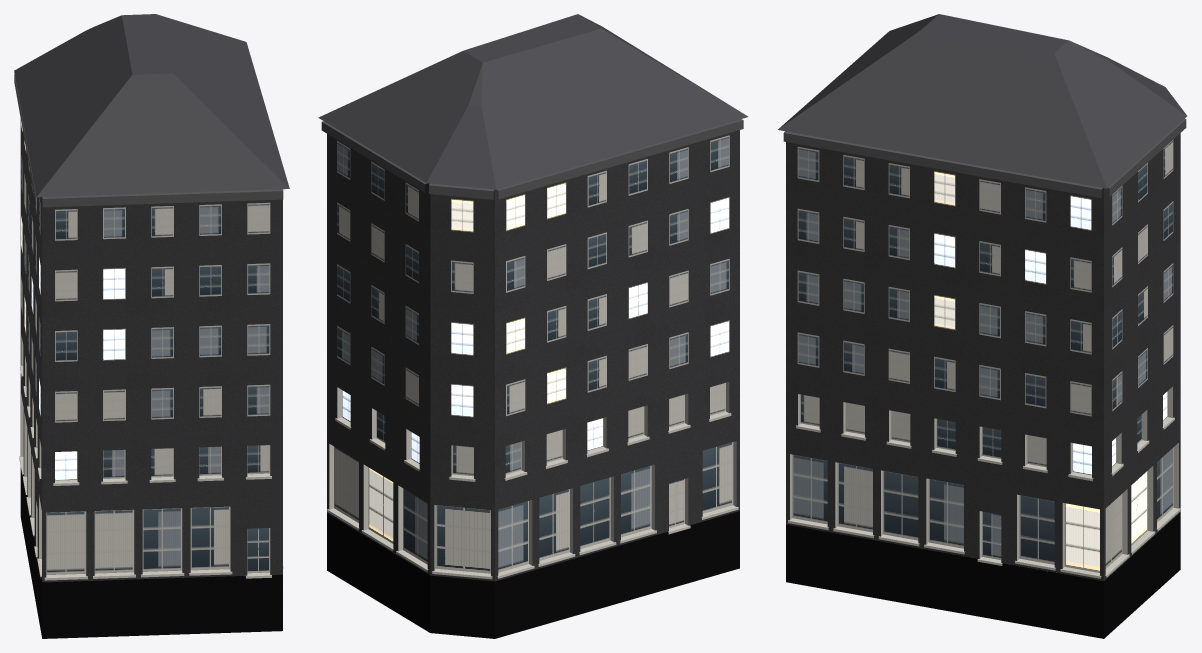
Rendered from langB_l20.glb.
3 renders of one model, left to right at view 1: azimuth 30°, elevation 25°; view 2: azimuth 150°, elevation 25°; view 3: azimuth 270°, elevation 25°, orthographic. The views are drawn at different scales.
Visible parts, largest first — view 1: langB_l20; view 2: langB_l20; view 3: langB_l20.
Boxes of the visible parts, x1,y1,x2,y2 form: langB_l20: (14, 14, 289, 638); langB_l20: (318, 14, 748, 638); langB_l20: (778, 14, 1187, 638).
Size of the model in its own units: 17.59 by 27.59 by 19.33.
Materials: 3 (3 with a texture image).
